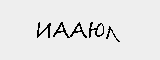А: (71, 20, 87, 41), (52, 20, 67, 41)
И: (36, 20, 52, 41)
Л: (105, 24, 122, 43)
Ю: (88, 21, 105, 41)
